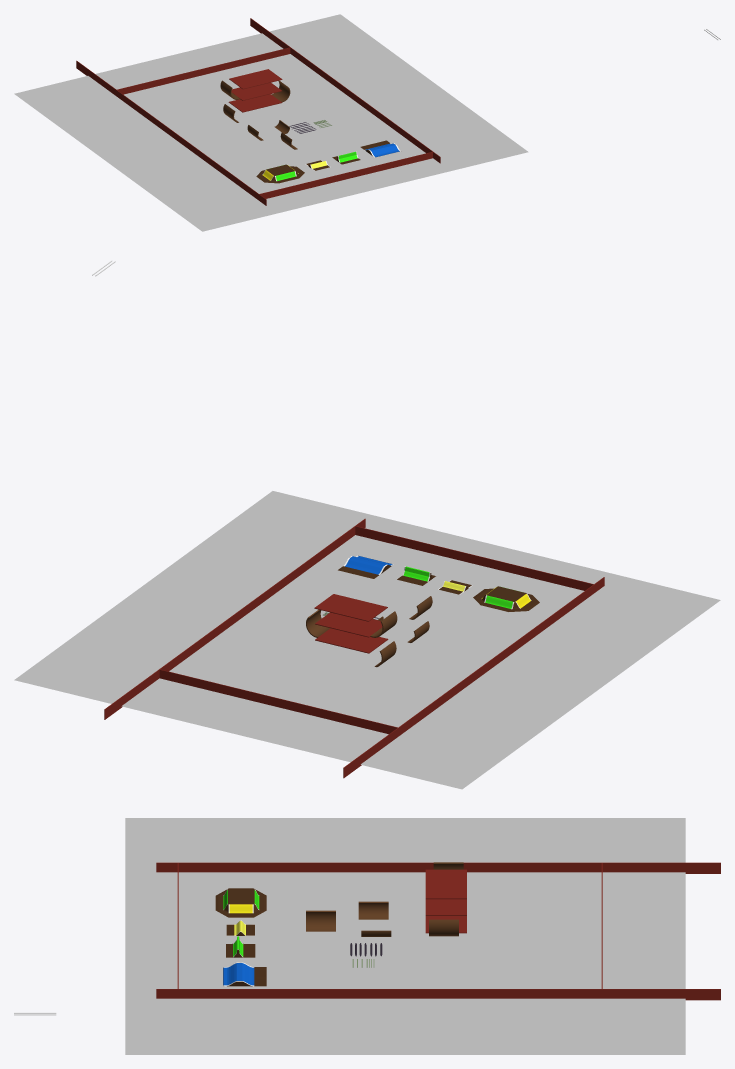
The model's file is PlayGround.fbx.
The picture shows the model from 3 angles, top to bottom: view 1: azimuth 30°, elevation 25°; view 2: azimuth 150°, elevation 25°; view 3: azimuth 270°, elevation 25°; orthographic projection. The views are drawn at different scales.
Visible parts, largest first — view 1: Plane, Cube__11_, Cube__10_, Cube__15_, Cube__14_, Cube__12_, Cube__13_, ramp1, Cube__18_, Cube__3_, Cube__17_, ramp4; view 2: Plane, Cube__11_, Cube__10_, Cube__14_, Cube__13_, Cube__15_, Cube__12_, ramp1, Cube__18_, Cube__3_, Cube__17_; view 3: Plane, Cube__14_, Cube__12_, Cube__13_, Cube__15_, ramp1, Cube__18_, ramp4, Cube__17_, Arch__1_, Arch__3_, Arch__4_ (+1 smaller).
Boxes of the visible parts, x1,y1,x2,y2 form: Plane: (14, 14, 528, 231); Cube__11_: (117, 47, 290, 94); Cube__10_: (259, 151, 433, 198); Cube__15_: (76, 60, 176, 140); Cube__14_: (165, 126, 266, 205); Cube__12_: (339, 83, 440, 163); Cube__13_: (250, 18, 350, 96); ramp1: (256, 164, 304, 183); Cube__18_: (229, 69, 282, 89); Cube__3_: (228, 94, 282, 112); Cube__17_: (231, 82, 281, 100); ramp4: (360, 140, 400, 157); Plane: (14, 491, 720, 789); Cube__11_: (159, 669, 397, 734); Cube__10_: (355, 526, 593, 590); Cube__14_: (466, 577, 604, 686); Cube__13_: (104, 609, 242, 719); Cube__15_: (343, 666, 481, 778); Cube__12_: (227, 518, 365, 619); ramp1: (473, 586, 539, 611); Cube__18_: (314, 594, 387, 621); Cube__3_: (315, 628, 388, 653); Cube__17_: (315, 612, 382, 637); Plane: (125, 818, 685, 1054); Cube__14_: (156, 862, 433, 872); Cube__12_: (156, 989, 455, 998); Cube__13_: (421, 989, 720, 1000); Cube__15_: (421, 862, 720, 873); ramp1: (215, 888, 266, 917); Cube__18_: (425, 869, 466, 899); ramp4: (223, 962, 266, 986); Cube__17_: (425, 899, 466, 915); Arch__1_: (306, 910, 335, 931); Arch__3_: (358, 901, 388, 919); Arch__4_: (429, 919, 458, 936).
Bounding box in the file's own units: 96465 × 19892 × 82585.
